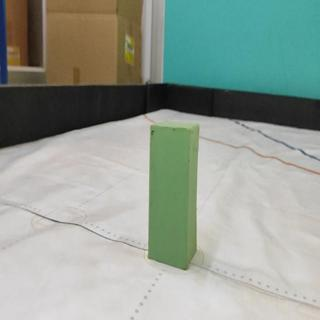greenbox: (147, 124, 199, 272)
